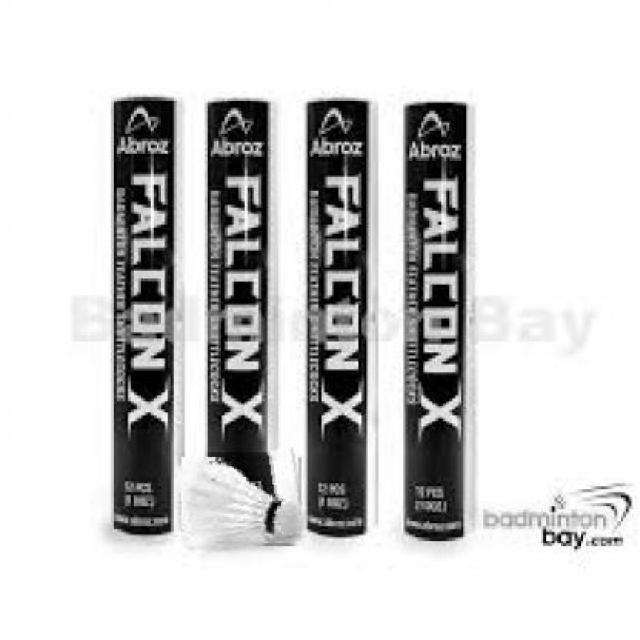Shuttlecock: (178, 452, 304, 551)
